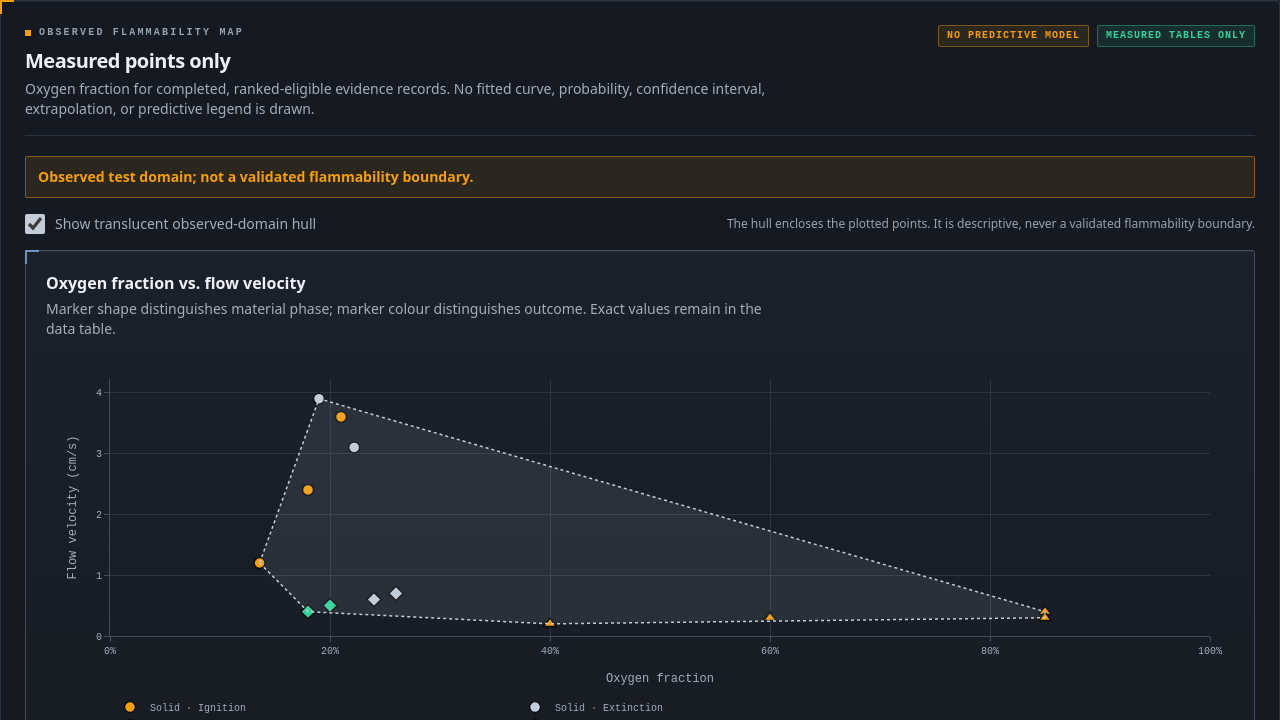
Test: ObservedMapPanel — measured points only › offers the translucent hull as an opt-out checkbox, on by default
Click the checkbox labelled "Show translucent observed-domain hull". click: click(35, 224)
box: [25,214,45,234]
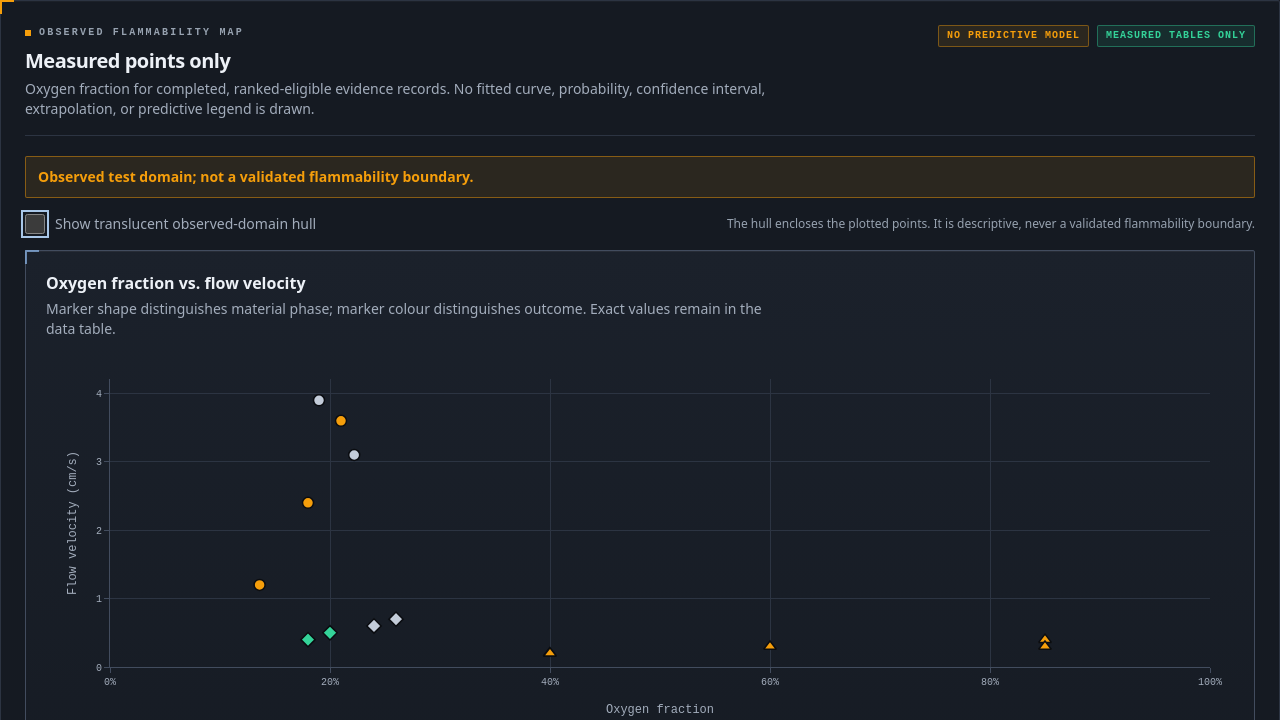
Result: the checkbox labelled "Show translucent observed-domain hull" is not checked
Click the checkbox labelled "Show translucent observed-domain hull". click: click(35, 224)
box: [25,214,45,234]
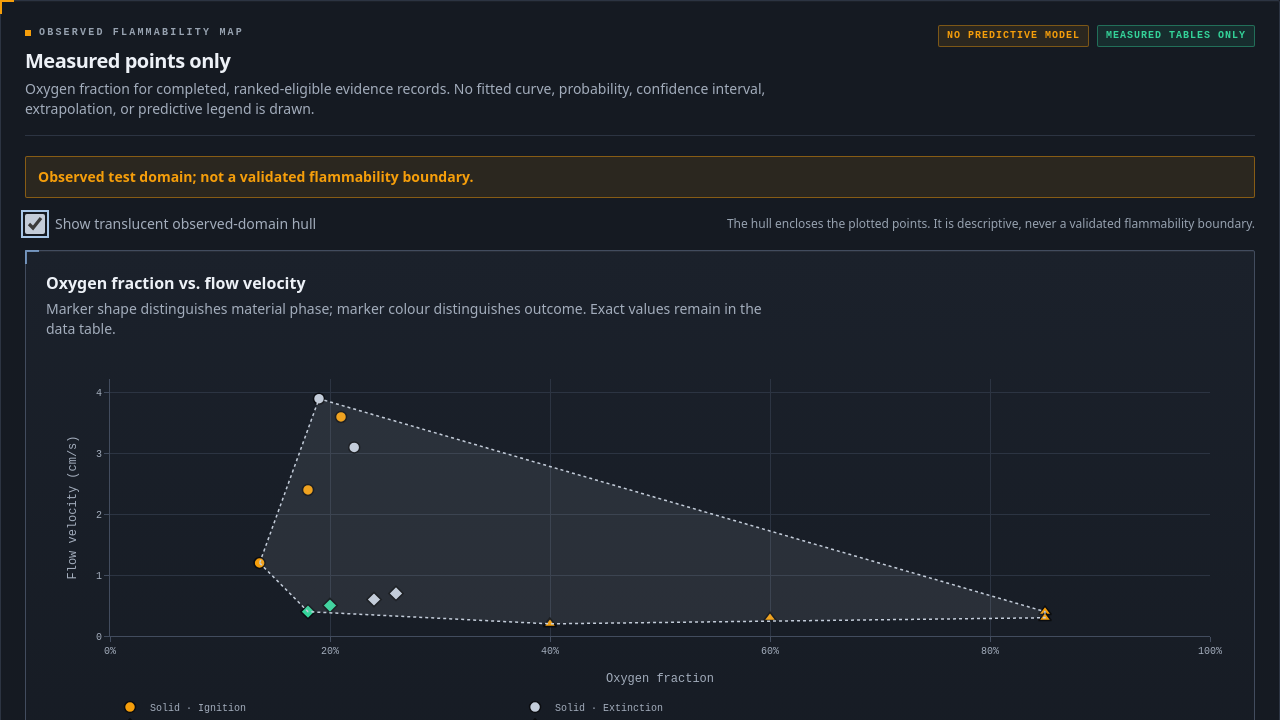
Result: the checkbox labelled "Show translucent observed-domain hull" is checked at [25,214,45,234]
